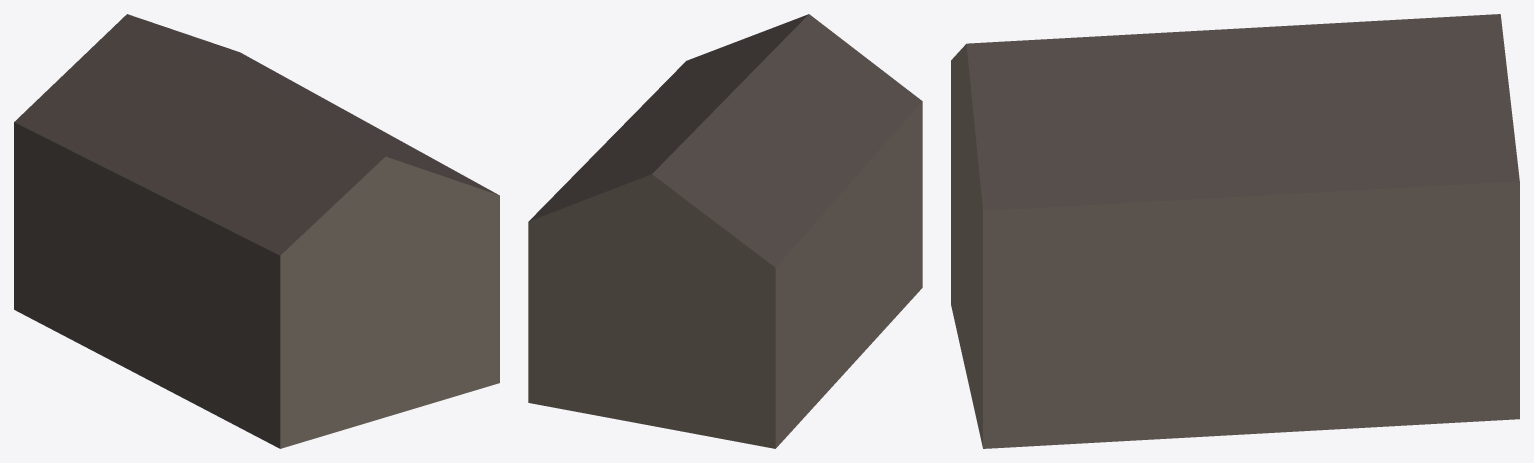
The picture shows the model from 3 angles, left to right: view 1: azimuth 30°, elevation 25°; view 2: azimuth 150°, elevation 25°; view 3: azimuth 270°, elevation 25°; orthographic projection. The views are drawn at different scales.
Parts seen in each view (by area): view 1: HP-w983161516; view 2: HP-w983161516; view 3: HP-w983161516.
Boxes of the visible parts, bbox=[...] form: HP-w983161516: bbox=[14, 14, 499, 448]; HP-w983161516: bbox=[528, 14, 922, 448]; HP-w983161516: bbox=[951, 14, 1519, 448].
Size of the model in its own units: 9.68 by 8.34 by 13.01.
